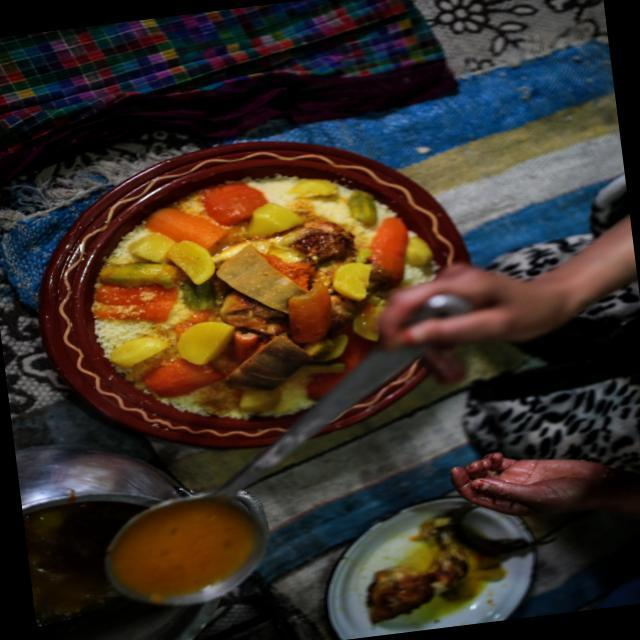Couscous: (24, 122, 487, 472)
